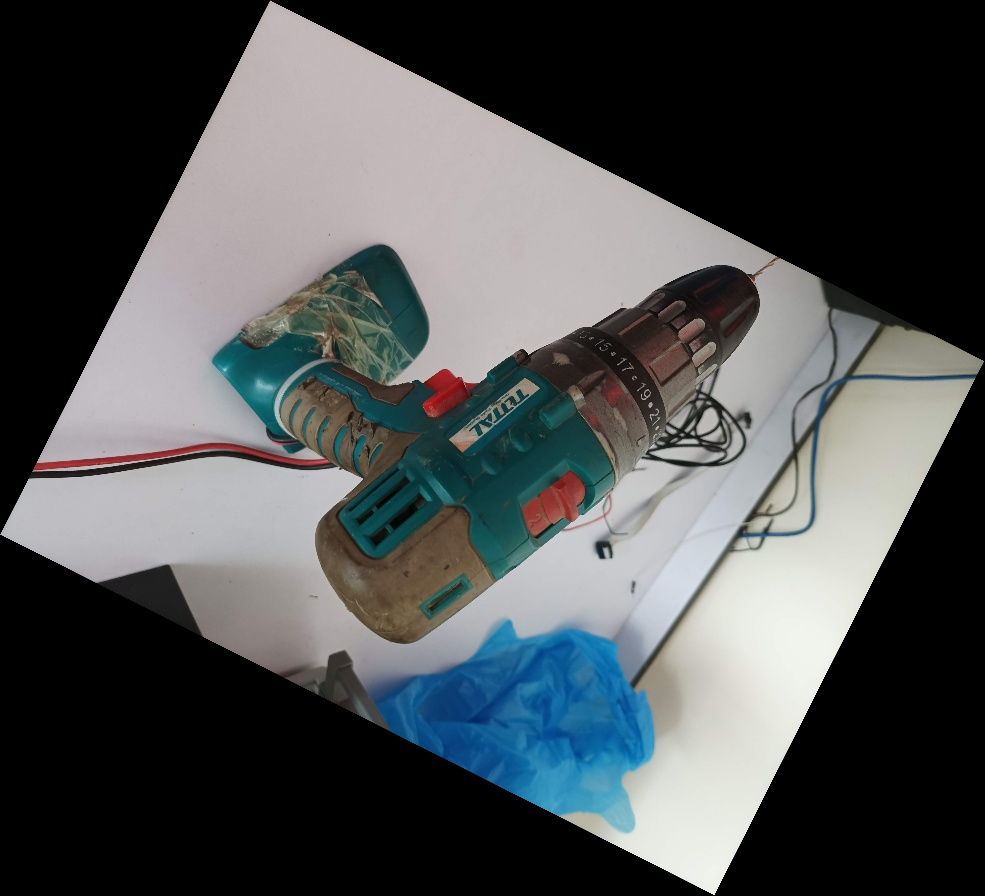driller: (201, 240, 780, 648)
